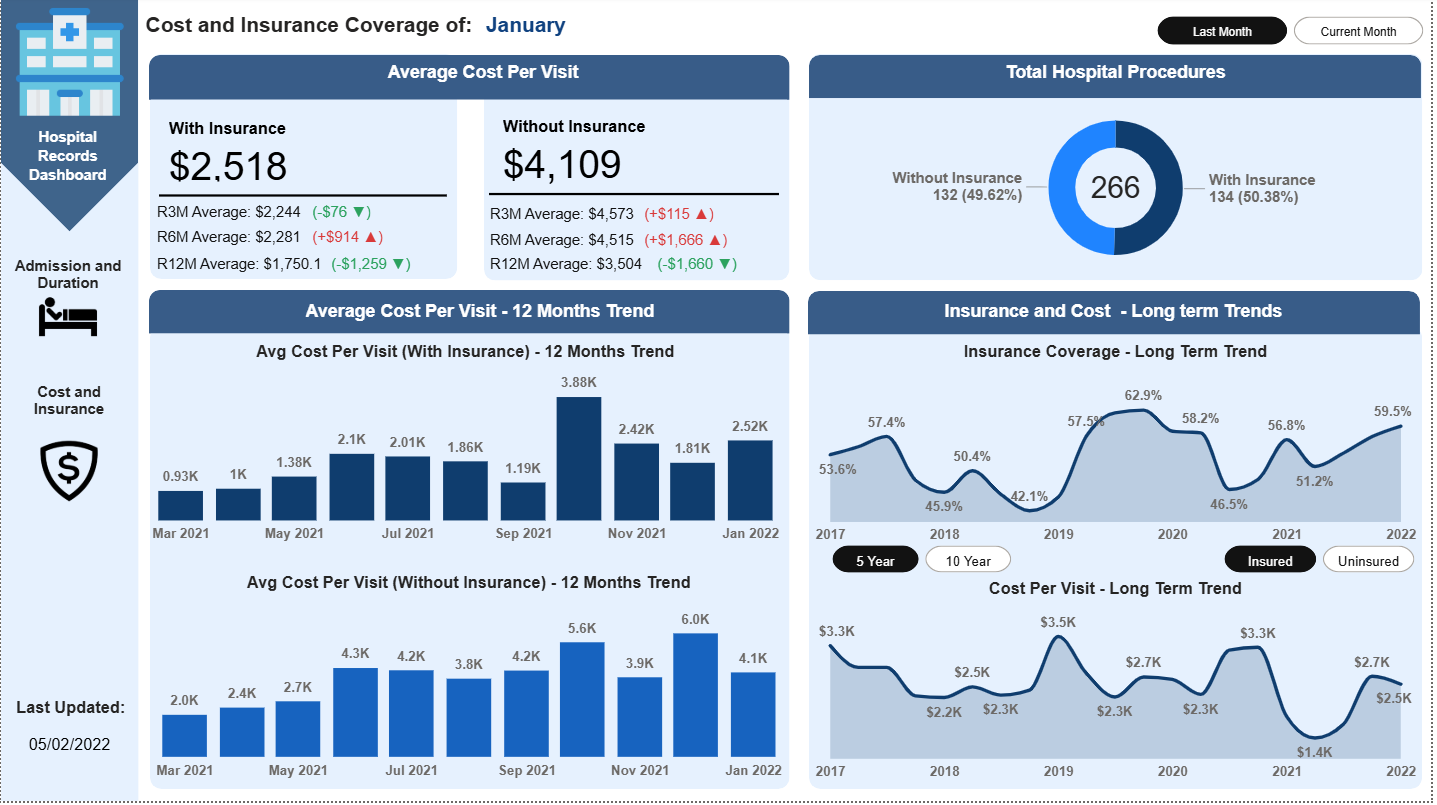

What the dashboard file says about the page in this screenshot:
{"tool":"powerbi","page":{"name":"Cost and Insurance","canvas":[1280,720],"ordinal":1},"visuals":[{"type":"shape","box":[723.6,294.5,549.1,414.5],"z":0},{"type":"shape","box":[723.3,51.4,549.5,202.7],"z":1000},{"type":"shape","box":[133.6,294.5,572.7,414.5],"z":2000},{"type":"shape","box":[432.4,53.9,273.5,200.3],"z":3000},{"type":"clusteredColumnChart","title":"Avg Cost Per Visit (With Insurance) - 12 Months Trend","fields":{"Category":["DateTable.Month Start"],"Y":["Measure.Avg Fees Per Visit R12M Trend With Insurance"]},"box":[130,309.2,572.1,187.8],"z":4000},{"type":"lineChart","title":"Insurance Coverage - Long Term Trend","fields":{"Category":["DateTable.Quarter Start"],"Y":["Measure.Coverage % (by Month)"]},"box":[723.6,309.1,549.1,188.2],"z":5000},{"type":"lineChart","title":"Cost Per Visit - Long Term Trend","fields":{"Category":["DateTable.Quarter Start"],"Y":["CoverageOption.Cost per Visit (Switch)"]},"box":[724,521,549,188],"z":6000},{"type":"columnChart","title":"Avg Cost Per Visit (Without Insurance) - 12 Months Trend","fields":{"Category":["DateTable.Month Start"],"Y":["Measure.Avg Fees Per Visit R12M Trend Without Insurance"]},"box":[133.9,516.2,571.1,192.6],"z":7000},{"type":"shape","box":[133.7,51.4,275.2,201.5],"z":8000},{"type":"cardVisual","fields":{"Data":["Measure.Avg Fees Per Visit With Insurance (Current Month)"]},"box":[134.4,92.3,262.3,85.8],"z":9000},{"type":"cardVisual","fields":{"Data":["Measure.Avg Fees Without Insurance R3M KPI titlie","Measure.Avg Fees Without Insurance R3M label"]},"box":[429,165,286,50],"z":10000},{"type":"cardVisual","fields":{"Data":["Measure.Avg Fees Per Visit Without Insurance (Current Month)"]},"box":[432.2,90.1,219,83.3],"z":11000},{"type":"cardVisual","fields":{"Data":["Measure.Avg Fees With Insurance R6M KPI titlie","Measure.Avg Fees With Insurance R6M label"]},"box":[131,187,288,47],"z":12000},{"type":"cardVisual","fields":{"Data":["Measure.Avg Fees With Insurance R3M KPI titlie","Measure.Avg Fees With Insurance R3M label"]},"box":[131,165,288,46],"z":13000},{"type":"advancedSlicerVisual","fields":{"Values":["ReportingPeriod.Label"]},"box":[1031,12.6,249,35.9],"z":14000},{"type":"cardVisual","fields":{"Data":["Measure.Avg Fees With Insurance R12M KPI titlie","Measure.Avg Fees With Insurance R12M label"]},"box":[131,212,323,44],"z":15000},{"type":"cardVisual","fields":{"Data":["Measure.Avg Fees Without Insurance R6M KPI titlie","Measure.Avg Fees Without Insurance R6M label"]},"box":[429,192,286,42],"z":16000},{"type":"cardVisual","fields":{"Data":["Measure.Avg Fees Without Insurance R12M KPI titlie","Measure.Avg Fees Without Insurance R12M label"]},"box":[429,212,311,44],"z":17000},{"type":"shape","box":[132.7,51.8,573.6,40],"z":18000},{"type":"textbox","box":[294,54,276,39],"z":19000},{"type":"shape","box":[724,52,548,40],"z":20000},{"type":"textbox","box":[894.6,53.7,244.5,34.9],"z":21000},{"type":"shape","box":[437,170.5,259.7,12.6],"z":22000},{"type":"shape","box":[141.5,171.5,257.7,11.6],"z":23000},{"type":"shape","box":[0,0,123.1,719.9],"z":24000},{"type":"donutChart","fields":{"Y":["Measure.Procedures With Insurance (Current Month)","Measure.Procedures Without Insurance (Current Month)"]},"box":[731.6,89.5,533,162.6],"z":25000},{"type":"advancedSlicerVisual","fields":{"Values":["LT Selector.Label"]},"box":[740,486.4,171.8,34.5],"z":26000},{"type":"advancedSlicerVisual","fields":{"Values":["CoverageOption.Coverage"]},"box":[1090.9,486.4,181.8,34.5],"z":27000},{"type":"shape","box":[723,263,548,39],"z":28000},{"type":"textbox","box":[840,268,382,34],"z":29000},{"type":"card","fields":{"Values":["Measure.Total Hospital Procedures • Display"]},"box":[920.8,136.8,155.1,67.4],"z":30000},{"type":"cardVisual","fields":{"Data":["Measure.Max Date"]},"box":[0,598.8,122.5,100],"z":31000},{"type":"textbox","box":[0,615,125,33.8],"z":32000},{"type":"card","fields":{"Values":["Measure.Current Month Label"]},"box":[418.2,10.7,103.9,30.4],"z":34000},{"type":"textbox","box":[124.5,9,312.5,34],"z":35000},{"type":"shape","box":[132.7,262.7,573.6,39.1],"z":36000},{"type":"textbox","box":[267.8,267.8,328.4,33.7],"z":37000},{"type":"image","title":"Admission and Duration","box":[0,233.6,120,75.5],"z":38000},{"type":"image","title":"Cost and Insurance","box":[0.9,346.4,120,130.9],"z":39000},{"type":"shape","box":[0,0,122.7,210],"z":40000},{"type":"image","box":[3.6,0,115.5,115.5],"z":41000},{"type":"textbox","box":[12.7,110.9,94.5,66.4],"z":41500}]}

Visuals, with their boxes in screenshot pixels (x1, y1, x2, y2), scaled from the page's 1280x720 canvas onto the 1437x805 screenshot:
shape: 812/329/1429/793
shape: 812/57/1429/284
shape: 150/329/793/793
shape: 485/60/792/284
"Avg Cost Per Visit (With Insurance) - 12 Months Trend" clusteredColumnChart: 146/346/788/556
"Insurance Coverage - Long Term Trend" lineChart: 812/346/1429/556
"Cost Per Visit - Long Term Trend" lineChart: 813/583/1429/793
"Avg Cost Per Visit (Without Insurance) - 12 Months Trend" columnChart: 150/577/791/792
shape: 150/57/459/283
cardVisual - Measure.Avg Fees Per Visit With Insurance (Current Month): 151/103/445/199
cardVisual - Measure.Avg Fees Without Insurance R3M KPI titlie x Measure.Avg Fees Without Insurance R3M label: 482/184/803/240
cardVisual - Measure.Avg Fees Per Visit Without Insurance (Current Month): 485/101/731/194
cardVisual - Measure.Avg Fees With Insurance R6M KPI titlie x Measure.Avg Fees With Insurance R6M label: 147/209/470/262
cardVisual - Measure.Avg Fees With Insurance R3M KPI titlie x Measure.Avg Fees With Insurance R3M label: 147/184/470/236
advancedSlicerVisual - ReportingPeriod.Label: 1157/14/1436/54
cardVisual - Measure.Avg Fees With Insurance R12M KPI titlie x Measure.Avg Fees With Insurance R12M label: 147/237/510/286
cardVisual - Measure.Avg Fees Without Insurance R6M KPI titlie x Measure.Avg Fees Without Insurance R6M label: 482/215/803/262
cardVisual - Measure.Avg Fees Without Insurance R12M KPI titlie x Measure.Avg Fees Without Insurance R12M label: 482/237/831/286
shape: 149/58/793/103
textbox: 330/60/640/104
shape: 813/58/1428/103
textbox: 1004/60/1279/99
shape: 491/191/782/205
shape: 159/192/448/205
shape: 0/0/138/804
donutChart - Measure.Procedures With Insurance (Current Month) x Measure.Procedures Without Insurance (Current Month): 821/100/1420/282
advancedSlicerVisual - LT Selector.Label: 831/544/1024/582
advancedSlicerVisual - CoverageOption.Coverage: 1225/544/1429/582
shape: 812/294/1427/338
textbox: 943/300/1372/338
card - Measure.Total Hospital Procedures • Display: 1034/153/1208/228
cardVisual - Measure.Max Date: 0/669/138/781
textbox: 0/688/140/725
card - Measure.Current Month Label: 469/12/586/46
textbox: 140/10/491/48
shape: 149/294/793/337
textbox: 301/299/669/337
"Admission and Duration" image: 0/261/135/346
"Cost and Insurance" image: 1/387/136/534
shape: 0/0/138/235
image: 4/0/134/129
textbox: 14/124/120/198
